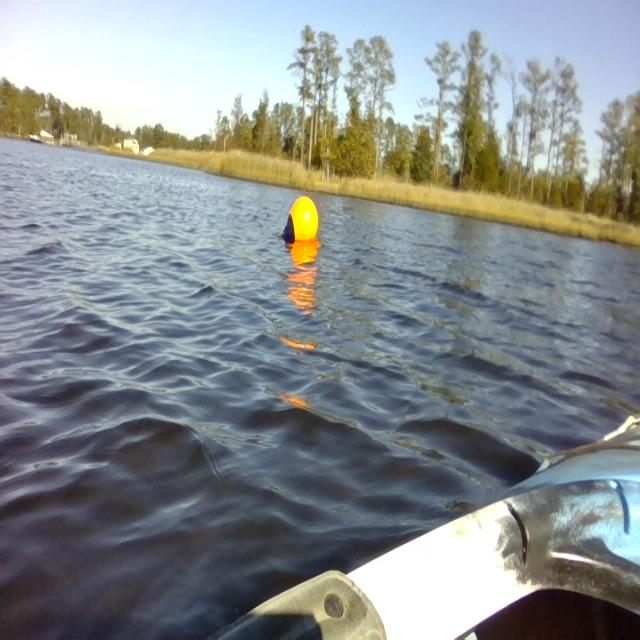Buoy: (278, 192, 326, 254)
